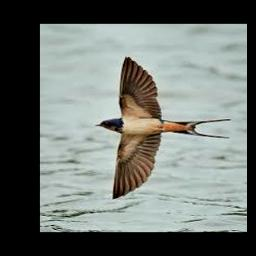Swallow: (95, 56, 230, 198)
